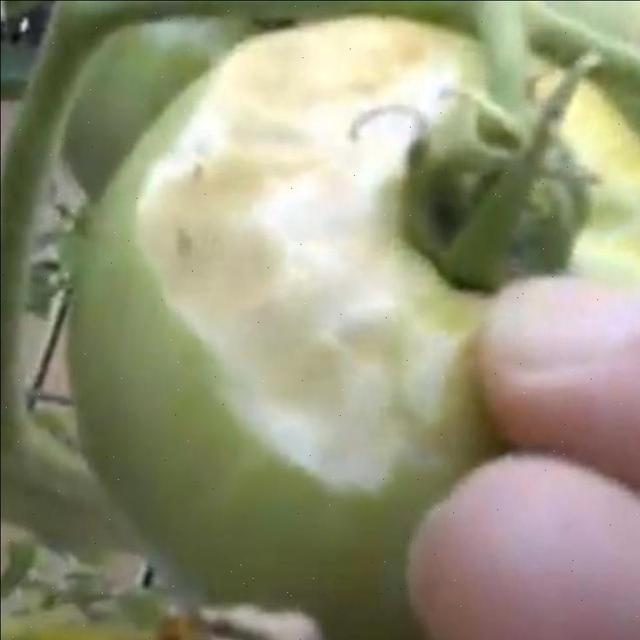Sunscald Fruit: (86, 11, 310, 341)
